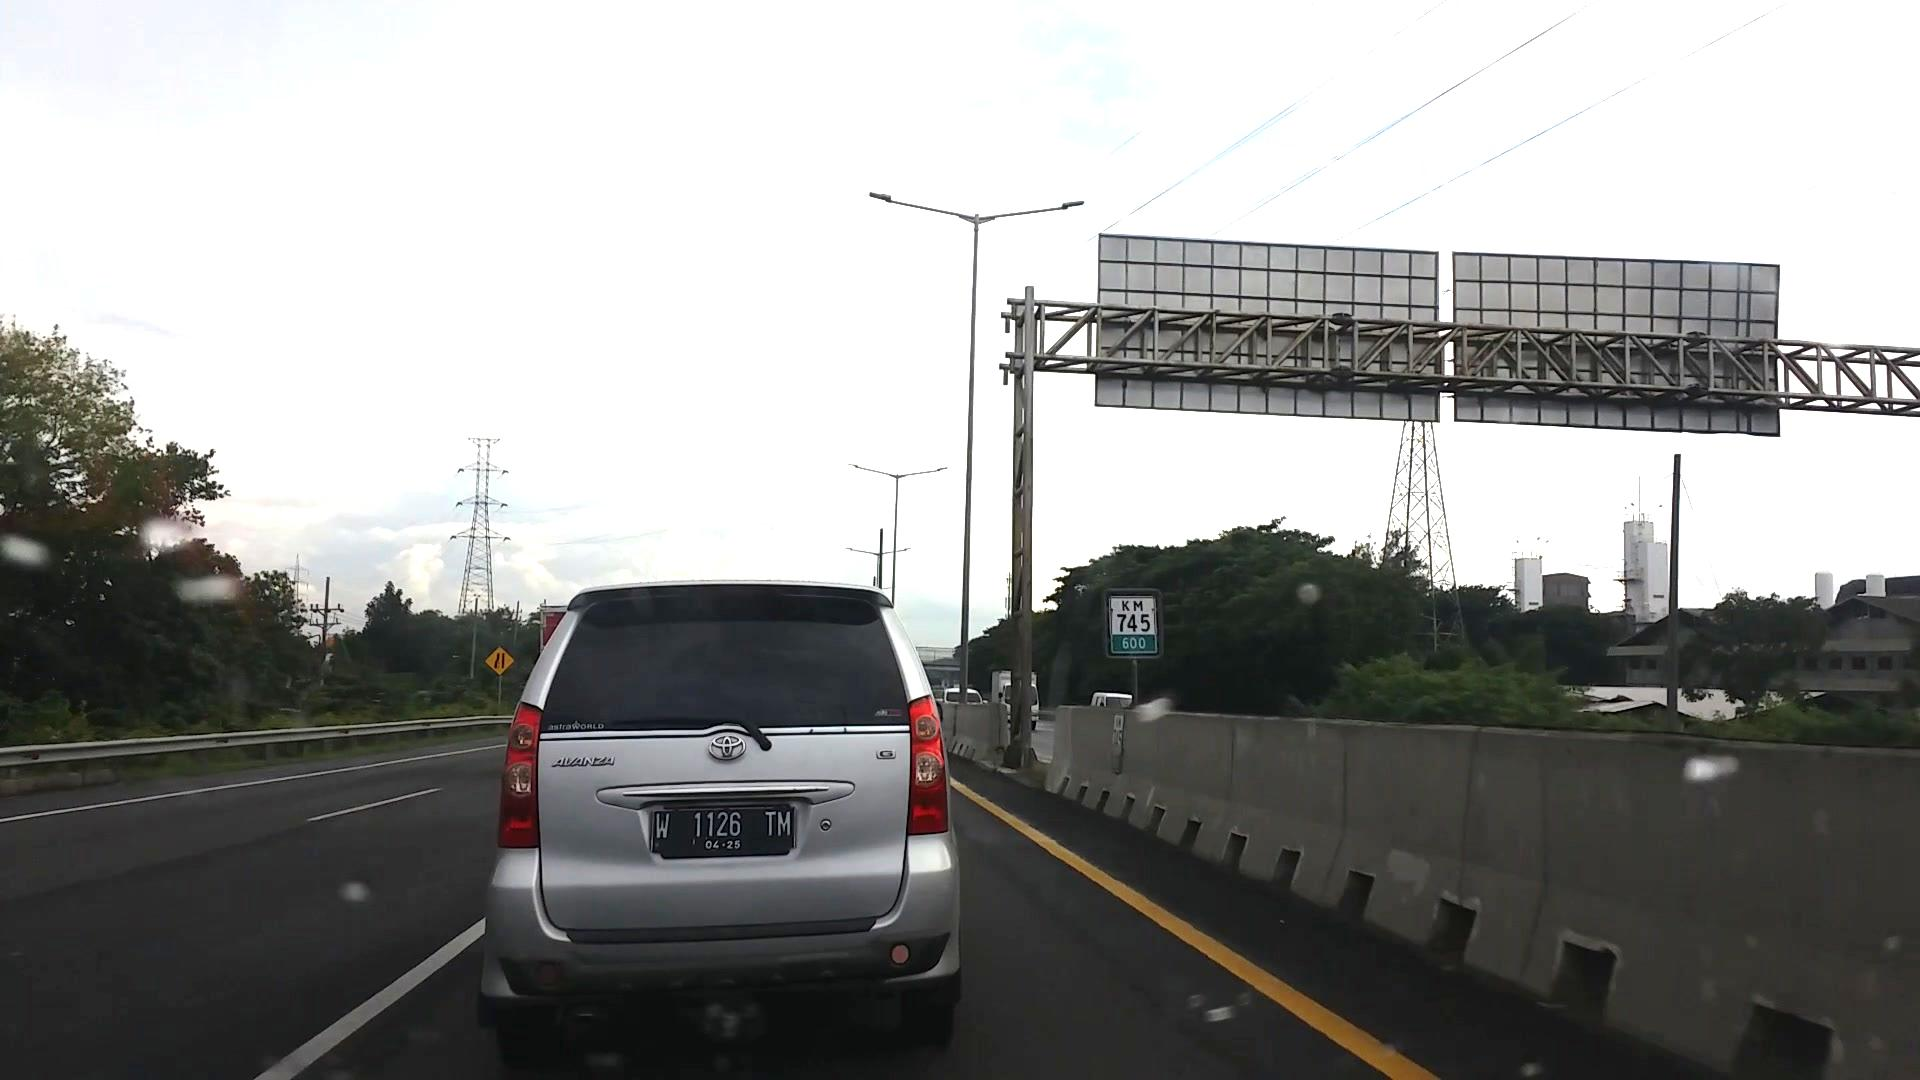plate_positive: (649, 808, 794, 856)
